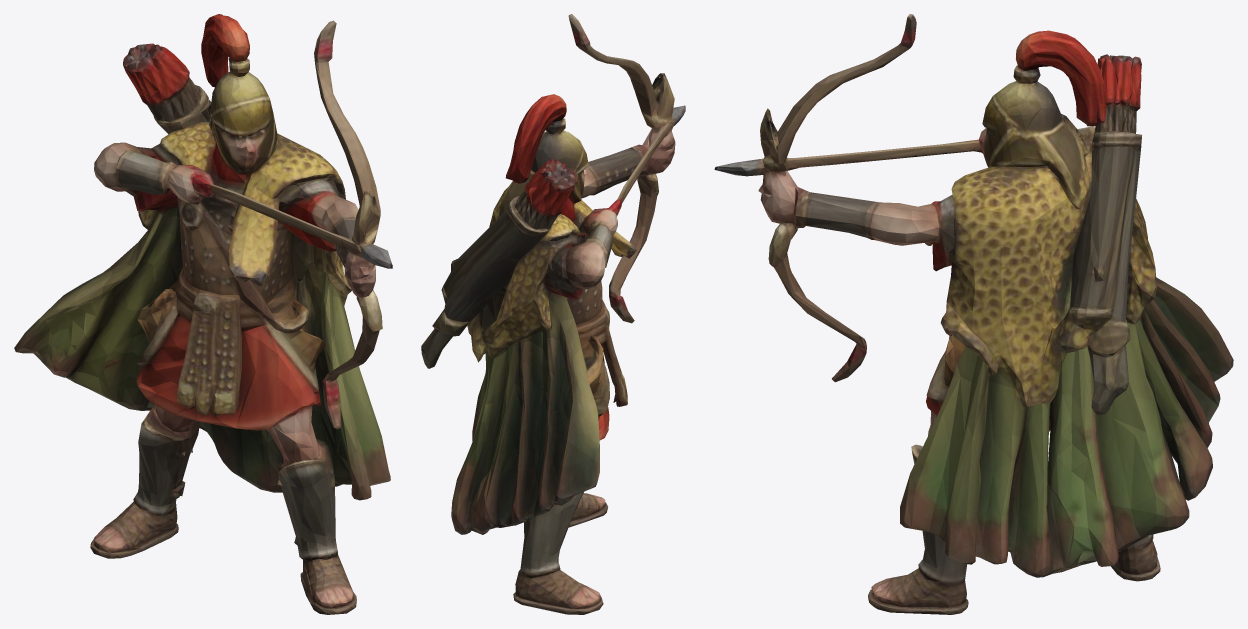
The model's file is legionArcher.glb.
3 views of the same model, side by side, from view 1: azimuth 30°, elevation 25°; view 2: azimuth 150°, elevation 25°; view 3: azimuth 270°, elevation 25° (orthographic). The views are drawn at different scales.
Parts seen in each view (by area): view 1: world; view 2: world; view 3: world.
Part boxes in pixels (x1=…): world: x1=14, y1=14, x2=392, y2=614; world: x1=421, y1=14, x2=685, y2=614; world: x1=714, y1=14, x2=1233, y2=614.
Bounding box in the file's own units: 0.4668 × 0.9998 × 0.7936.
1 material, 1 textured.
